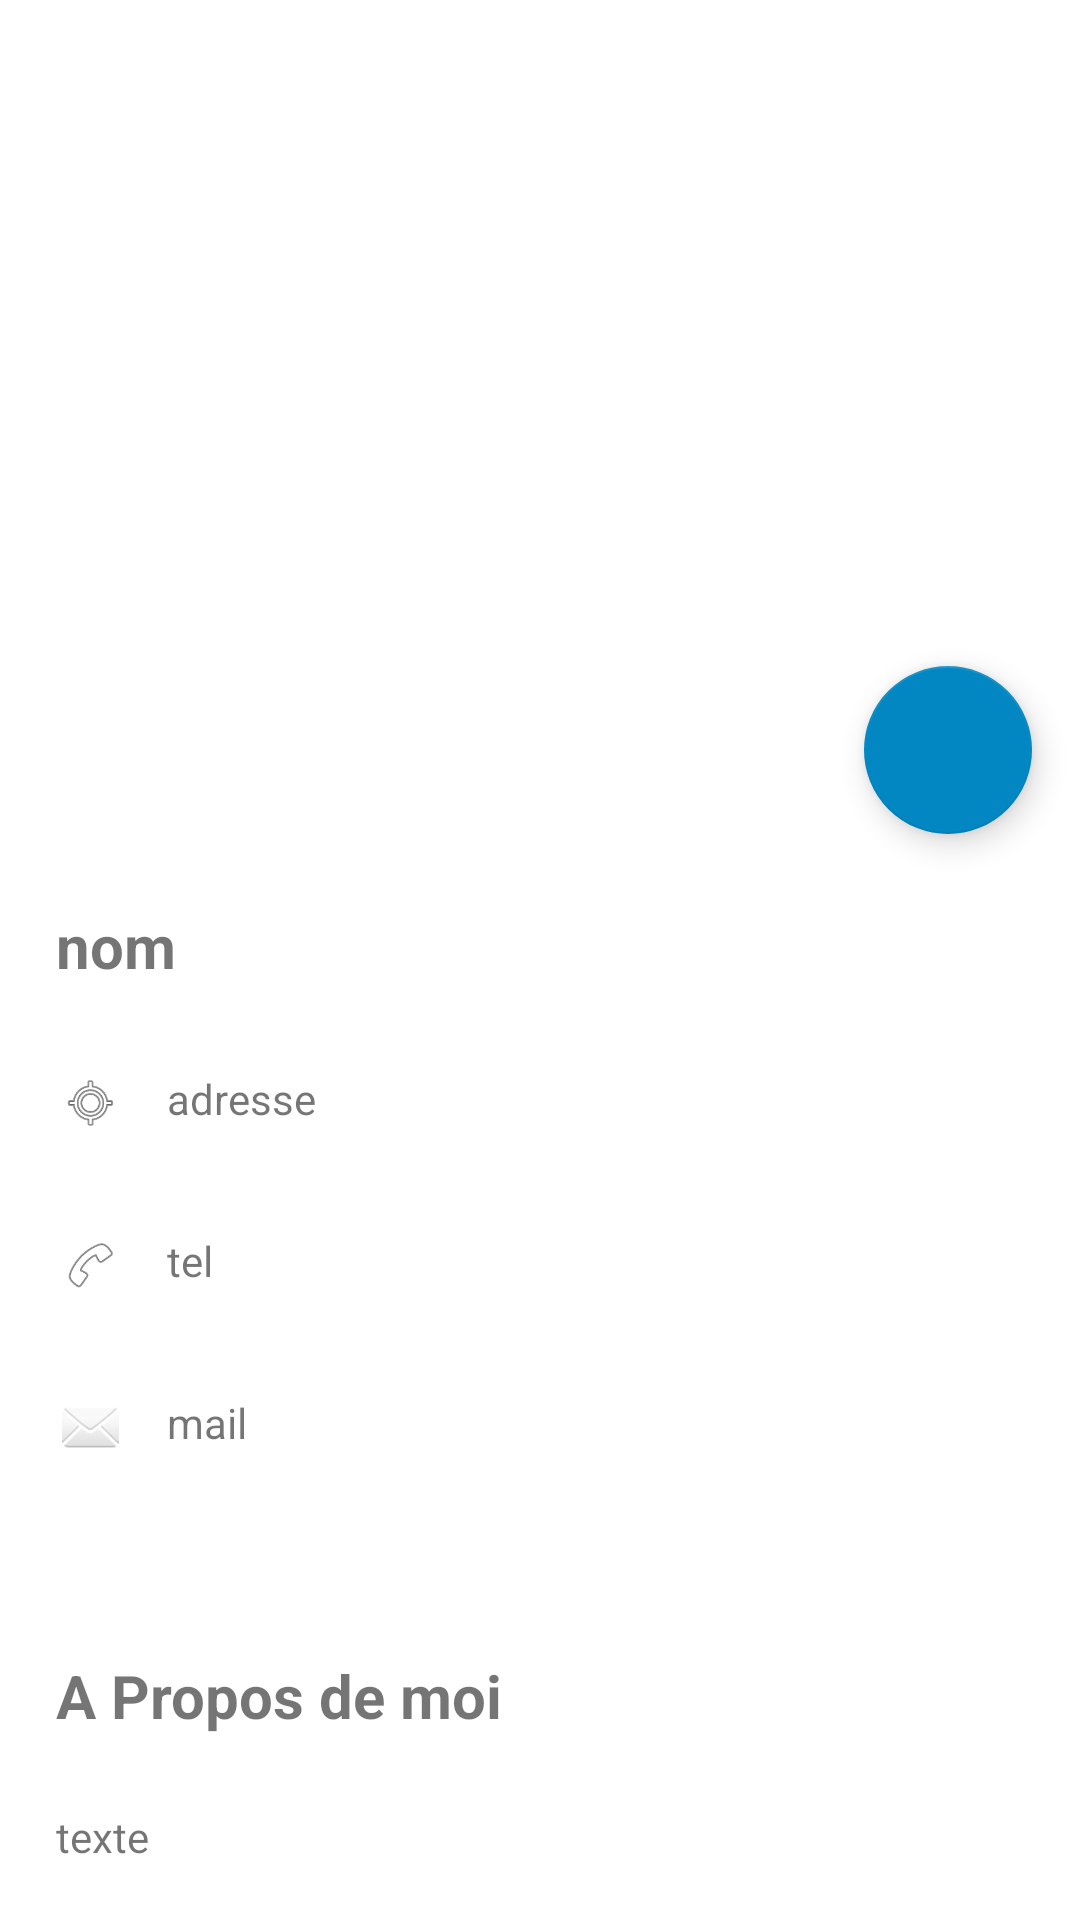

Screen size 1080×1920. Icon name, then its box in pixels as (x1, y1, x2, y2):
call: (68, 1243, 113, 1288)
mylocation: (68, 1080, 113, 1126)
